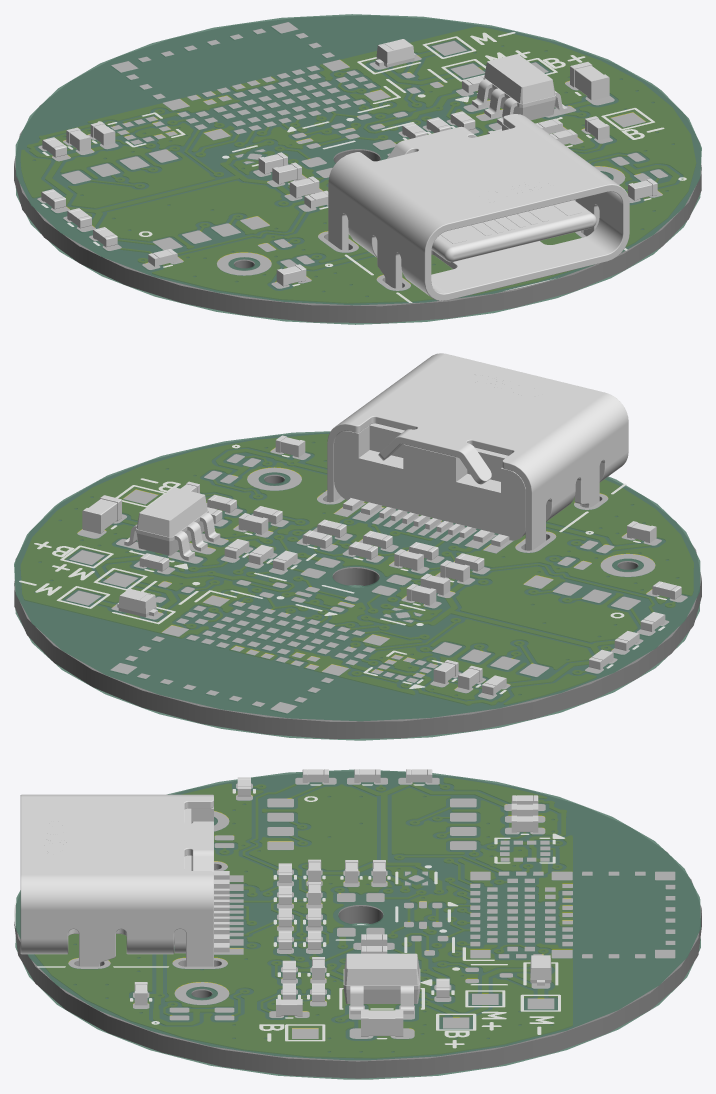
The model's file is omi.glb.
3 views of the same model, one above another, from view 1: azimuth 30°, elevation 25°; view 2: azimuth 150°, elevation 25°; view 3: azimuth 270°, elevation 25° (orthographic).
Parts seen in each view (by area): view 1: =>[0:1:1:13], =>[0:1:1:15], =>[0:1:1:8], J1, =>[0:1:1:9], U4, =>[0:1:1:11], =>[0:1:1:14], C1, D1, C9, C5 (+2 smaller); view 2: =>[0:1:1:13], =>[0:1:1:15], =>[0:1:1:8], J1, =>[0:1:1:9], U4, =>[0:1:1:11], =>[0:1:1:14], C1, D1; view 3: =>[0:1:1:13], =>[0:1:1:15], =>[0:1:1:8], J1, =>[0:1:1:9], =>[0:1:1:11], U4, =>[0:1:1:14], C1, D1.
Part boxes in pixels (x1,y1,x2,y2): =>[0:1:1:13]: [15, 14, 701, 305]; =>[0:1:1:15]: [14, 16, 701, 323]; =>[0:1:1:8]: [21, 27, 695, 302]; J1: [328, 114, 629, 301]; =>[0:1:1:9]: [37, 22, 667, 290]; U4: [472, 54, 567, 125]; =>[0:1:1:11]: [41, 32, 686, 302]; =>[0:1:1:14]: [15, 167, 701, 324]; C1: [570, 62, 609, 100]; D1: [375, 39, 415, 67]; C9: [276, 264, 306, 286]; C5: [289, 176, 319, 198]; =>[0:1:1:13]: [14, 431, 700, 721]; =>[0:1:1:15]: [14, 433, 701, 739]; =>[0:1:1:8]: [21, 434, 693, 704]; J1: [327, 353, 628, 550]; =>[0:1:1:9]: [65, 447, 687, 713]; U4: [124, 487, 220, 560]; =>[0:1:1:11]: [19, 444, 666, 694]; =>[0:1:1:14]: [14, 583, 700, 740]; C1: [82, 495, 121, 533]; D1: [117, 588, 157, 617]; =>[0:1:1:13]: [15, 769, 700, 1060]; =>[0:1:1:15]: [14, 772, 701, 1078]; =>[0:1:1:8]: [35, 778, 572, 1057]; J1: [20, 794, 229, 966]; =>[0:1:1:9]: [68, 778, 675, 1039]; =>[0:1:1:11]: [14, 784, 564, 1048]; U4: [343, 953, 420, 1014]; =>[0:1:1:14]: [15, 923, 700, 1079]; C1: [361, 1009, 403, 1036]; D1: [530, 955, 551, 985].
Bounding box in the file's own units: 0.026 × 0.00412 × 0.026.
